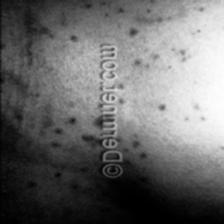Toxin: (80, 134, 93, 140)
